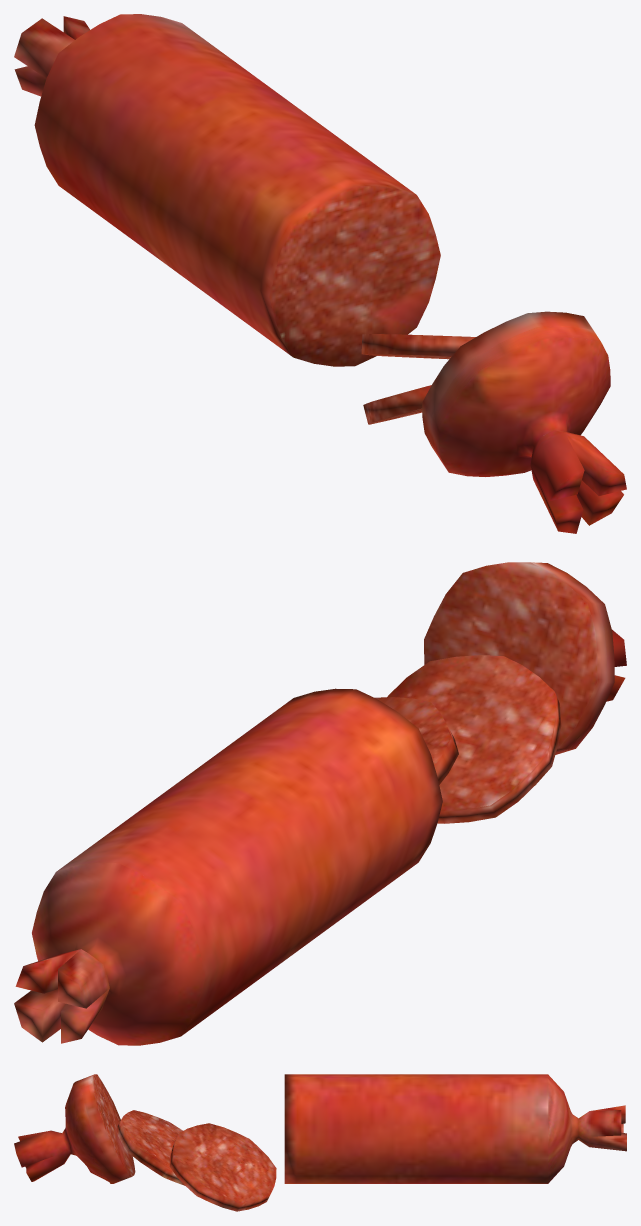
File: pickup_pepperoni.fbx
The picture shows the model from 3 angles, top to bottom: view 1: azimuth 30°, elevation 25°; view 2: azimuth 150°, elevation 25°; view 3: azimuth 270°, elevation 25°; orthographic projection. The views are drawn at different scales.
Visible parts, largest first — view 1: pepp; view 2: pepp; view 3: pepp.
Boxes of the visible parts, x1=… form: pepp: x1=14, y1=14, x2=626, y2=533; pepp: x1=14, y1=562, x2=626, y2=1045; pepp: x1=14, y1=1074, x2=626, y2=1211.
Size of the model in its own units: 17.86 by 14.04 by 76.92.
1 material, 1 textured.
